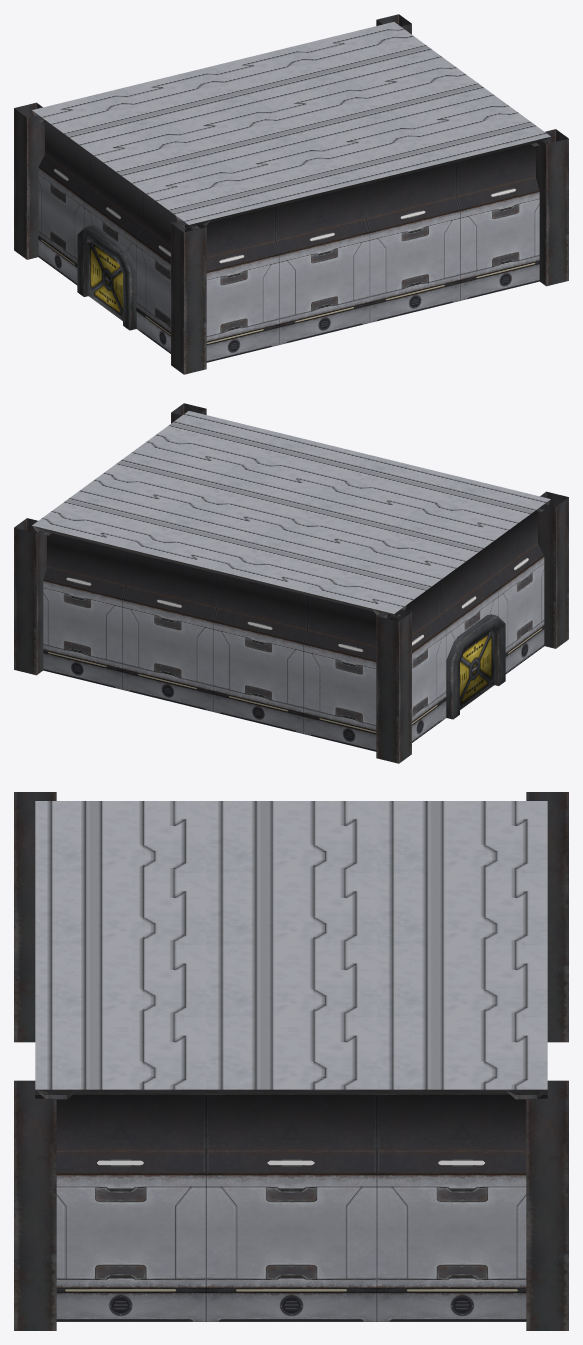
File: SalaServidores.fbx
3 views of the same model, one above another, from view 1: azimuth 30°, elevation 25°; view 2: azimuth 150°, elevation 25°; view 3: azimuth 270°, elevation 25° (orthographic). The views are drawn at different scales.
Visible parts, largest first — view 1: ROOM_WALL.259, ROOM_WALL.258, ROOM_WALL.260, ROOM_WALL.257, ROOM_WALL.261, ROOM_VIGA_QUINA.010, ROOM_WALL.263, ROOM_ROOF.083, ROOM_ROOF.073, ROOM_ROOF.077, ROOM_ROOF.081, ROOM_ROOF.076 (+11 smaller); view 2: ROOM_WALL.254, ROOM_WALL.255, ROOM_WALL.248, ROOM_WALL.256, ROOM_WALL.263, ROOM_VIGA_QUINA.008, ROOM_WALL.261, ROOM_ROOF.075, ROOM_ROOF.073, ROOM_ROOF.077, ROOM_ROOF.081, ROOM_ROOF.072 (+11 smaller); view 3: ROOM_WALL.265, ROOM_WALL.264, ROOM_WALL.266, ROOM_ROOF.072, ROOM_ROOF.073, ROOM_ROOF.074, ROOM_ROOF.075, ROOM_ROOF.076, ROOM_ROOF.077, ROOM_ROOF.078, ROOM_ROOF.079, ROOM_ROOF.080 (+10 smaller).
Part boxes in pixels (x1,y1,x2,y2): ROOM_WALL.259: [366, 162, 460, 322]; ROOM_WALL.258: [275, 184, 369, 344]; ROOM_WALL.260: [456, 142, 547, 300]; ROOM_WALL.257: [185, 206, 279, 362]; ROOM_WALL.261: [38, 122, 90, 284]; ROOM_VIGA_QUINA.010: [171, 220, 206, 374]; ROOM_WALL.263: [136, 192, 195, 353]; ROOM_ROOF.083: [408, 98, 550, 158]; ROOM_ROOF.073: [123, 66, 264, 126]; ROOM_ROOF.077: [175, 104, 317, 164]; ROOM_ROOF.081: [227, 142, 369, 202]; ROOM_ROOF.076: [84, 126, 226, 186]; ROOM_WALL.254: [122, 551, 216, 711]; ROOM_WALL.255: [213, 573, 307, 733]; ROOM_WALL.248: [35, 531, 126, 689]; ROOM_WALL.256: [303, 595, 397, 751]; ROOM_WALL.263: [492, 511, 544, 673]; ROOM_VIGA_QUINA.008: [376, 609, 411, 763]; ROOM_WALL.261: [387, 581, 446, 742]; ROOM_ROOF.075: [32, 487, 174, 547]; ROOM_ROOF.073: [213, 531, 355, 591]; ROOM_ROOF.077: [265, 493, 407, 553]; ROOM_ROOF.081: [318, 455, 459, 515]; ROOM_ROOF.072: [304, 553, 445, 613]; ROOM_WALL.265: [206, 1095, 376, 1321]; ROOM_WALL.264: [35, 1095, 205, 1321]; ROOM_WALL.266: [377, 1095, 547, 1321]; ROOM_ROOF.072: [377, 801, 547, 873]; ROOM_ROOF.073: [377, 873, 547, 945]; ROOM_ROOF.074: [377, 945, 547, 1017]; ROOM_ROOF.075: [377, 1017, 547, 1089]; ROOM_ROOF.076: [206, 801, 376, 873]; ROOM_ROOF.077: [206, 873, 376, 945]; ROOM_ROOF.078: [206, 945, 376, 1017]; ROOM_ROOF.079: [206, 1017, 376, 1089]; ROOM_ROOF.080: [35, 801, 205, 873].
Size of the model in its own units: 17 by 6 by 13.
